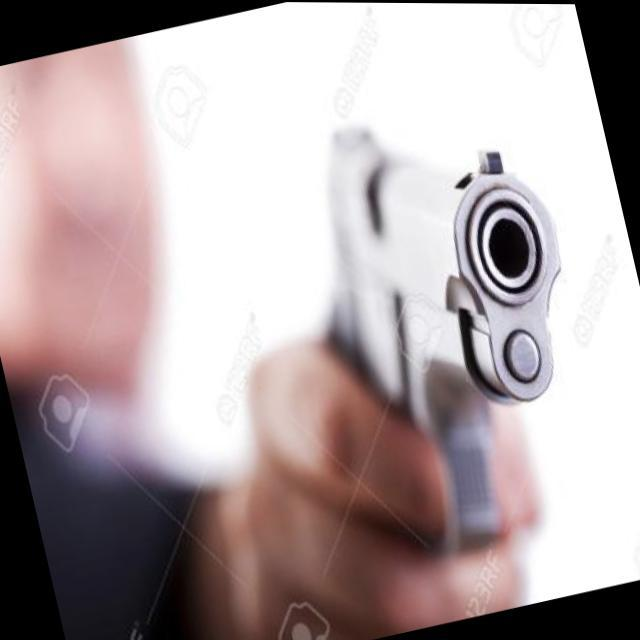weapon: (199, 65, 640, 640)
